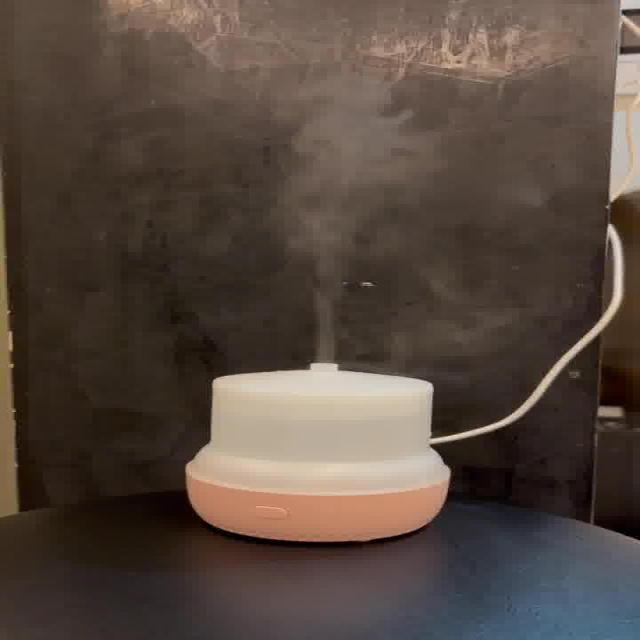fire: (284, 80, 436, 362)
